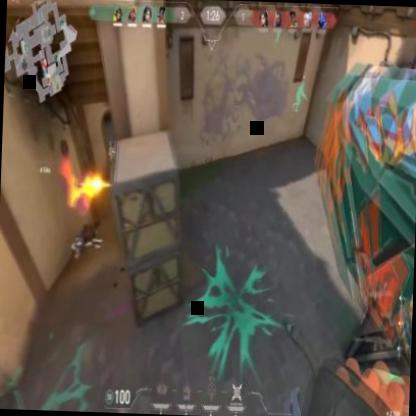enemy: (106, 138, 117, 175)
enemy_head: (109, 140, 113, 148)
